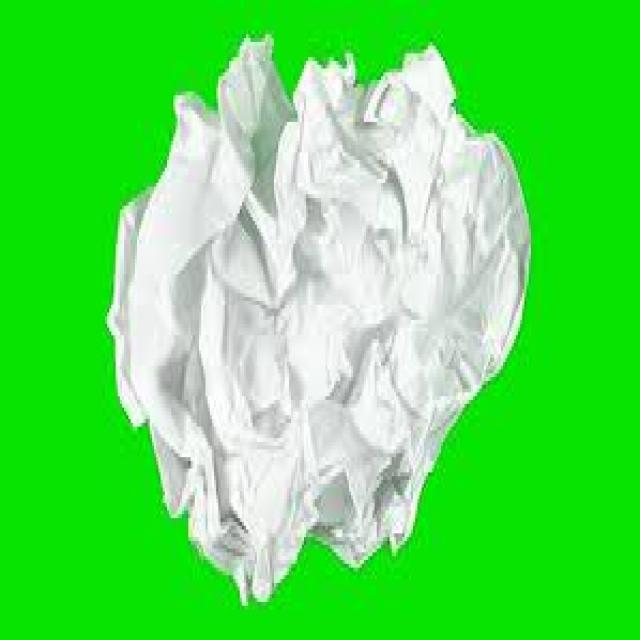crampled paper: (109, 40, 530, 602)
